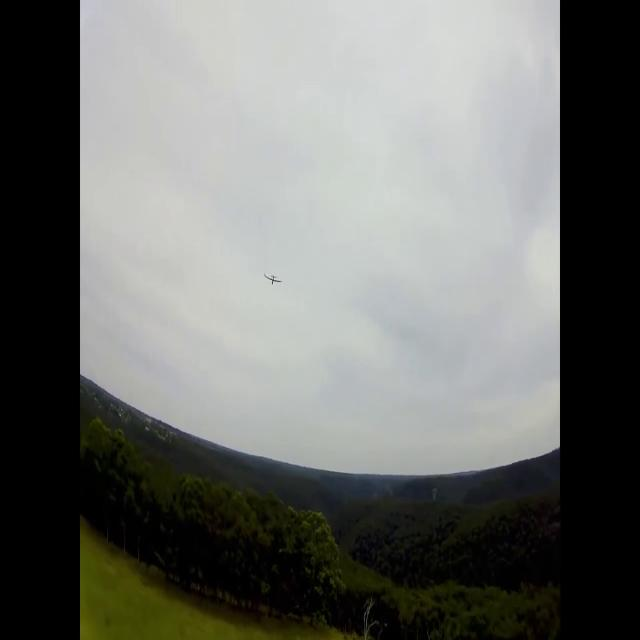iha: (263, 276, 283, 281)
